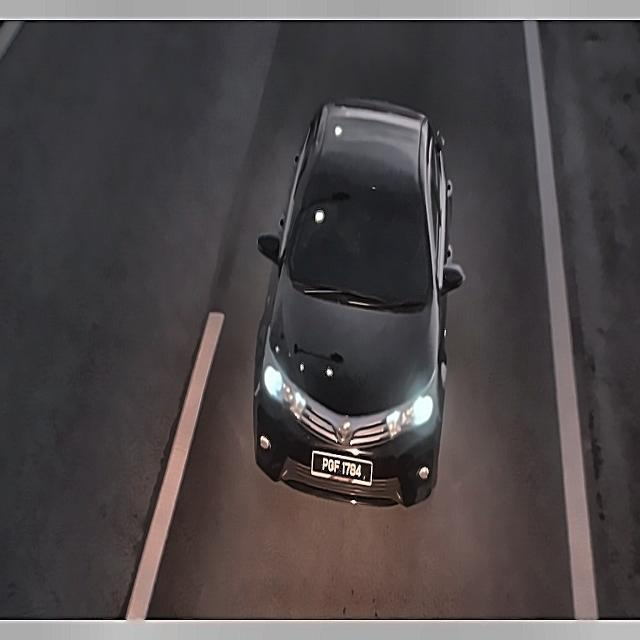car: (313, 448, 373, 492)
